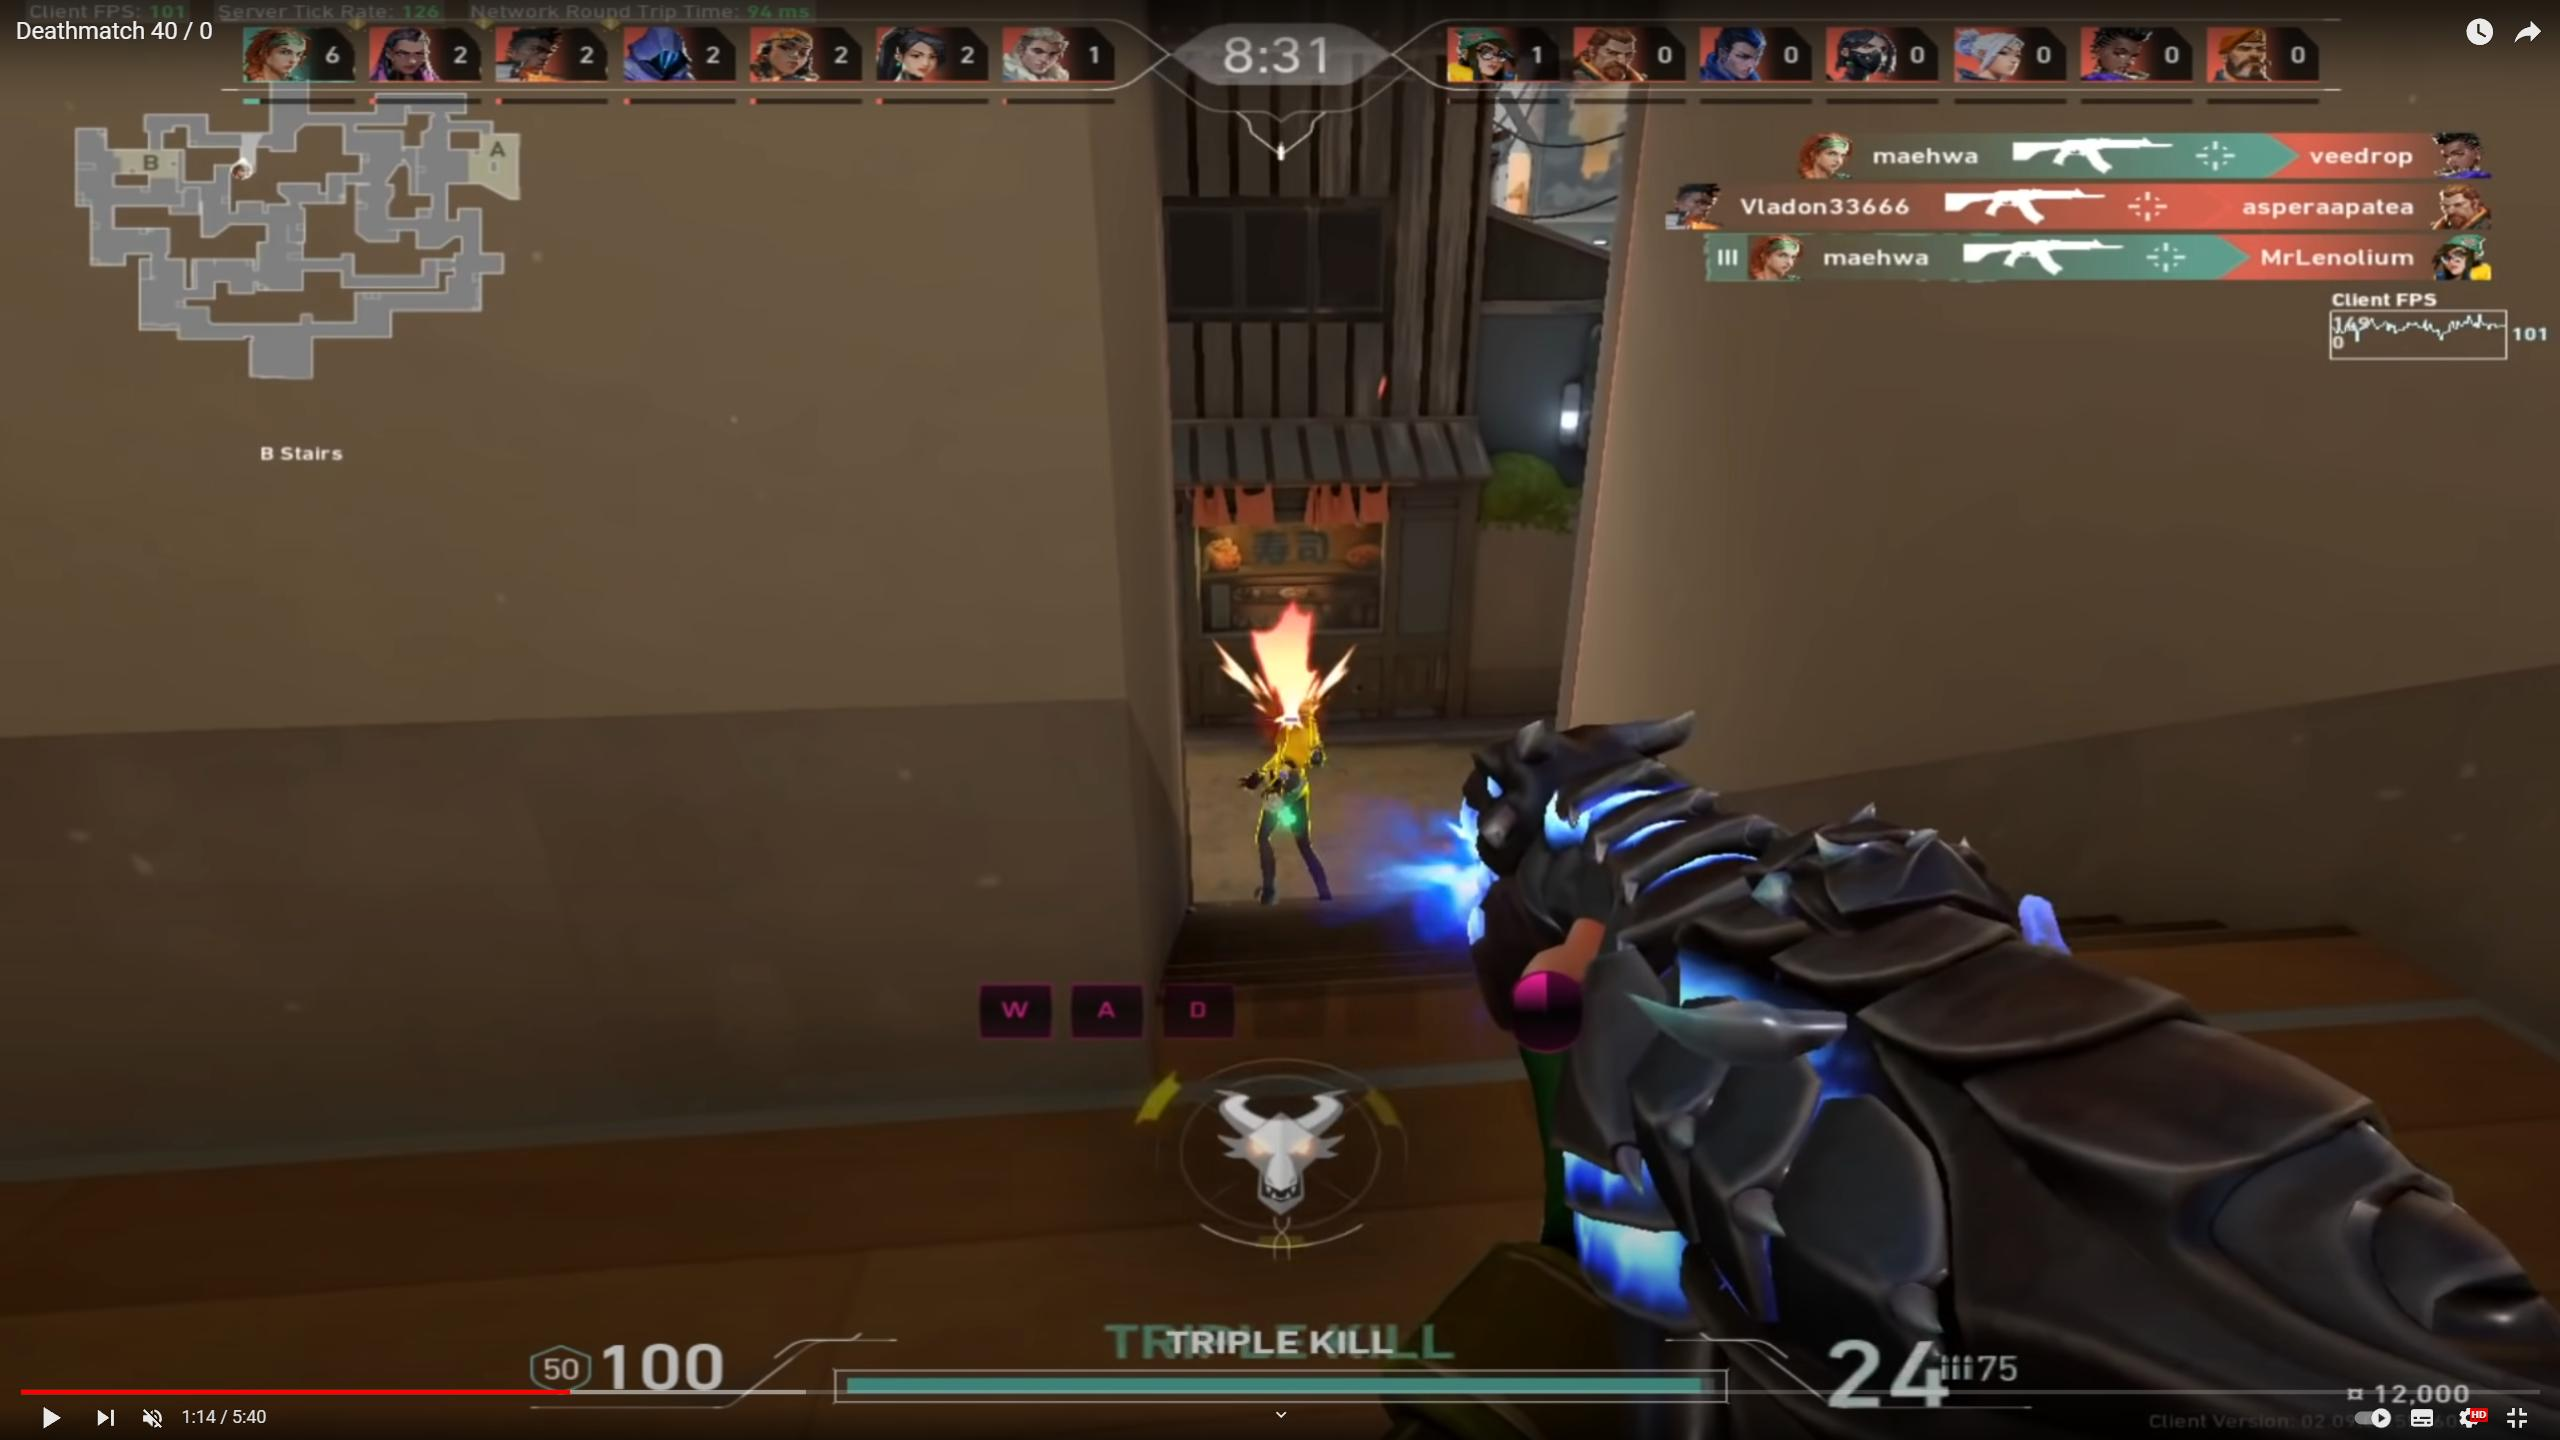enemyHead: (1289, 714, 1324, 745)
